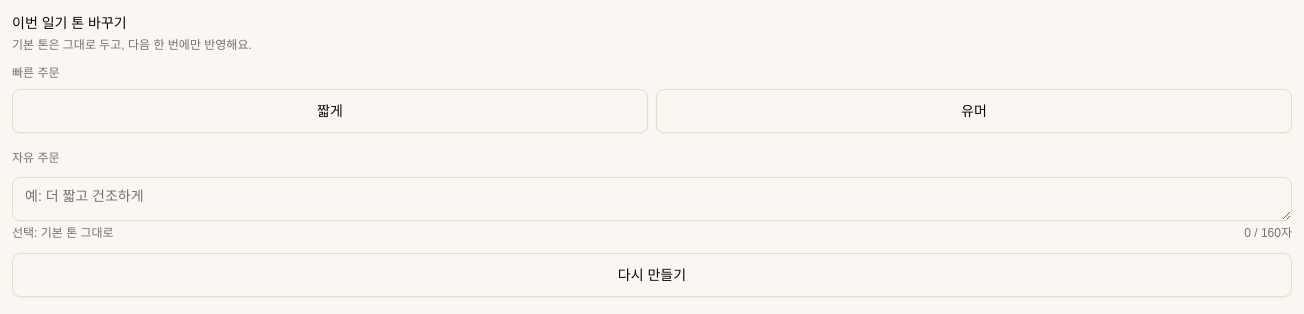
Test: RegenerateButton › 유머 빠른 주문도 선택할 수 있다
Click the button "유머". click: click(974, 111)
box: [656,89,1292,133]
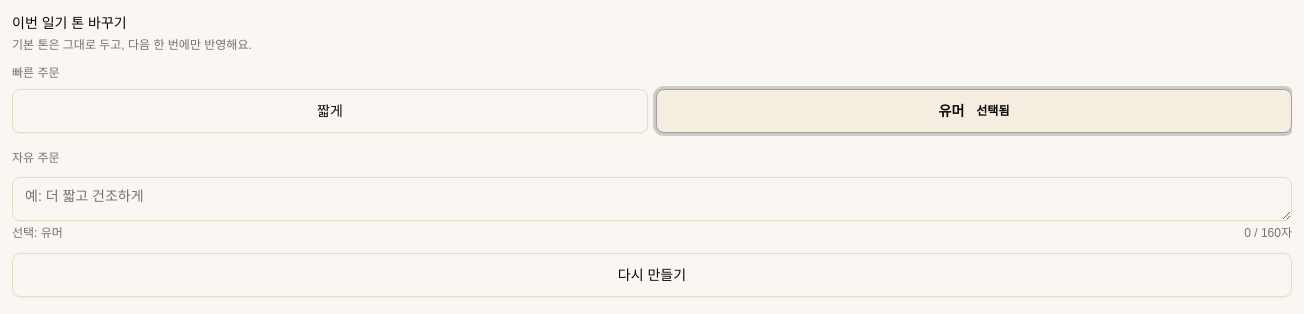
Expected: the text "선택: 유머" is shown, [12,225,63,241]
